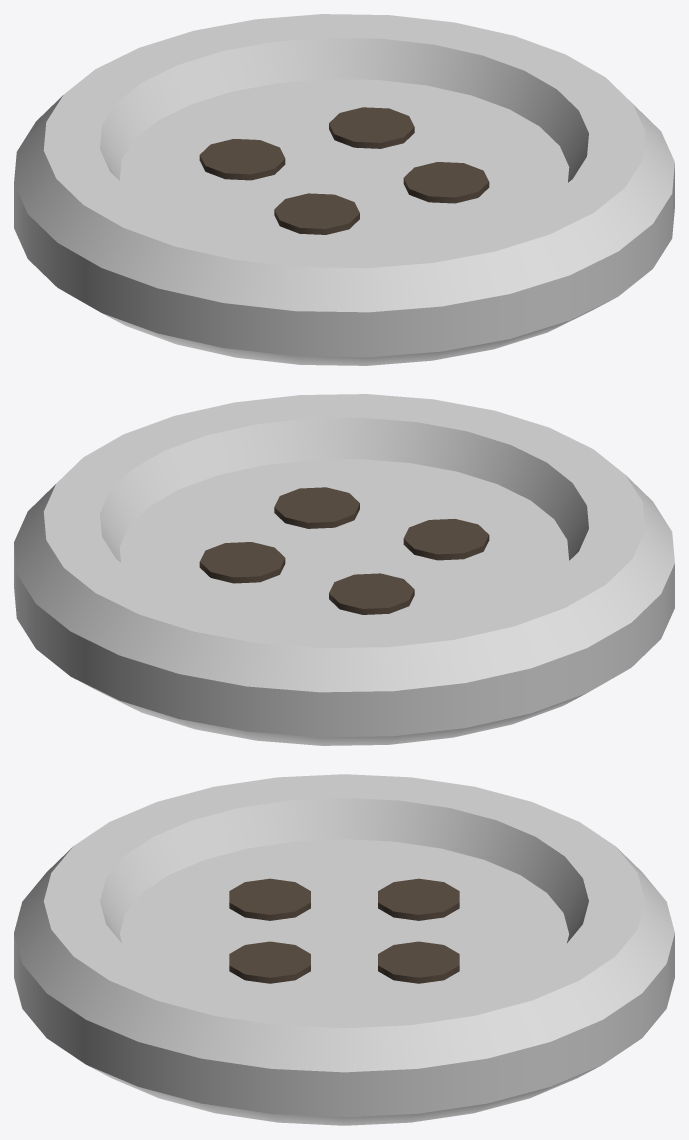
File: button_rim4.glb
The picture shows the model from 3 angles, top to bottom: view 1: azimuth 30°, elevation 25°; view 2: azimuth 150°, elevation 25°; view 3: azimuth 270°, elevation 25°; orthographic projection.
Parts seen in each view (by area): view 1: button_rim4; view 2: button_rim4; view 3: button_rim4.
Boxes of the visible parts, x1,y1,x2,y2 form: button_rim4: (14, 14, 674, 365); button_rim4: (14, 394, 674, 745); button_rim4: (14, 774, 674, 1125).
Size of the model in its own units: 0.04 by 0.0066 by 0.04.
